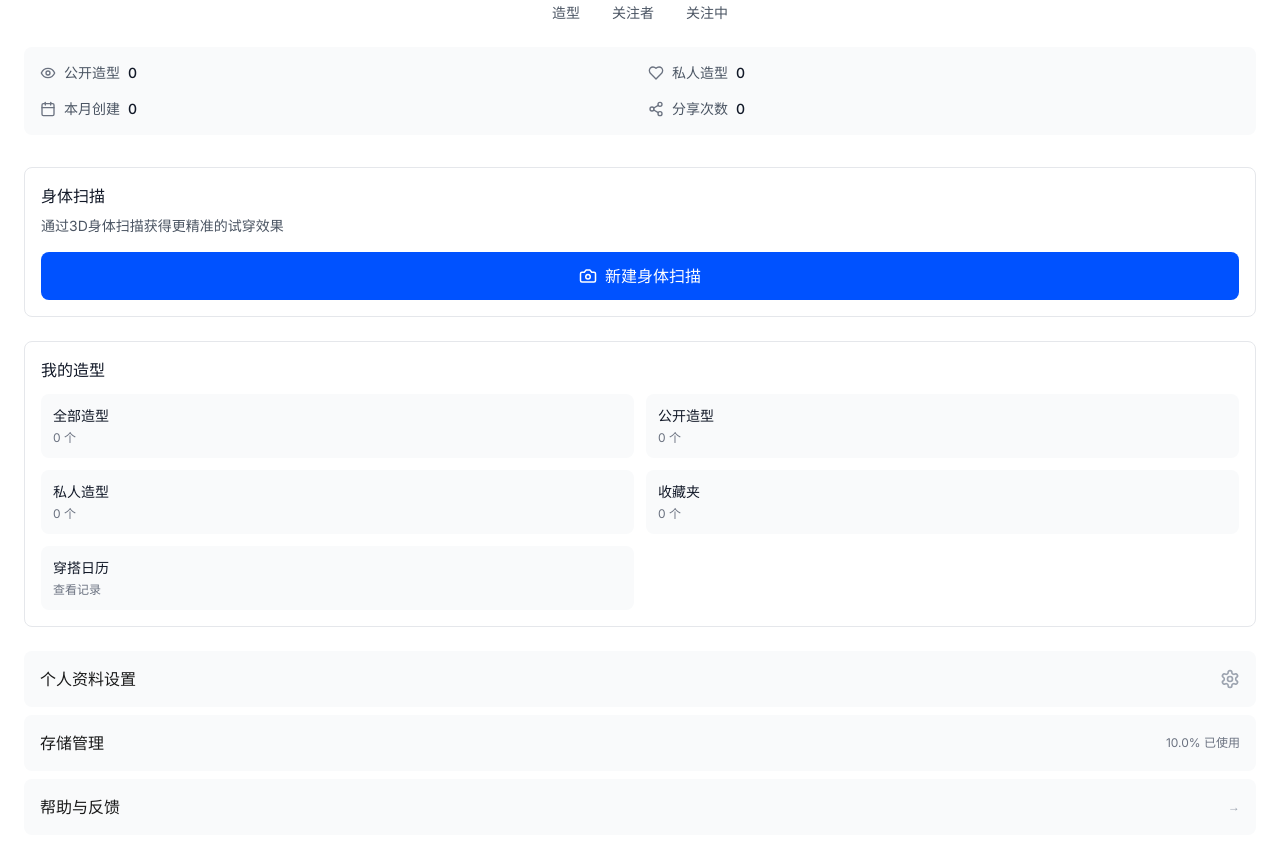
it: 用户管理属性测试 › 个人资料设置 › 应该显示所有设置选项
(page scrolled)
Click the button "个人资料设置": {"x": 88, "y": 679} [24,651,1256,707]
(page scrolled)
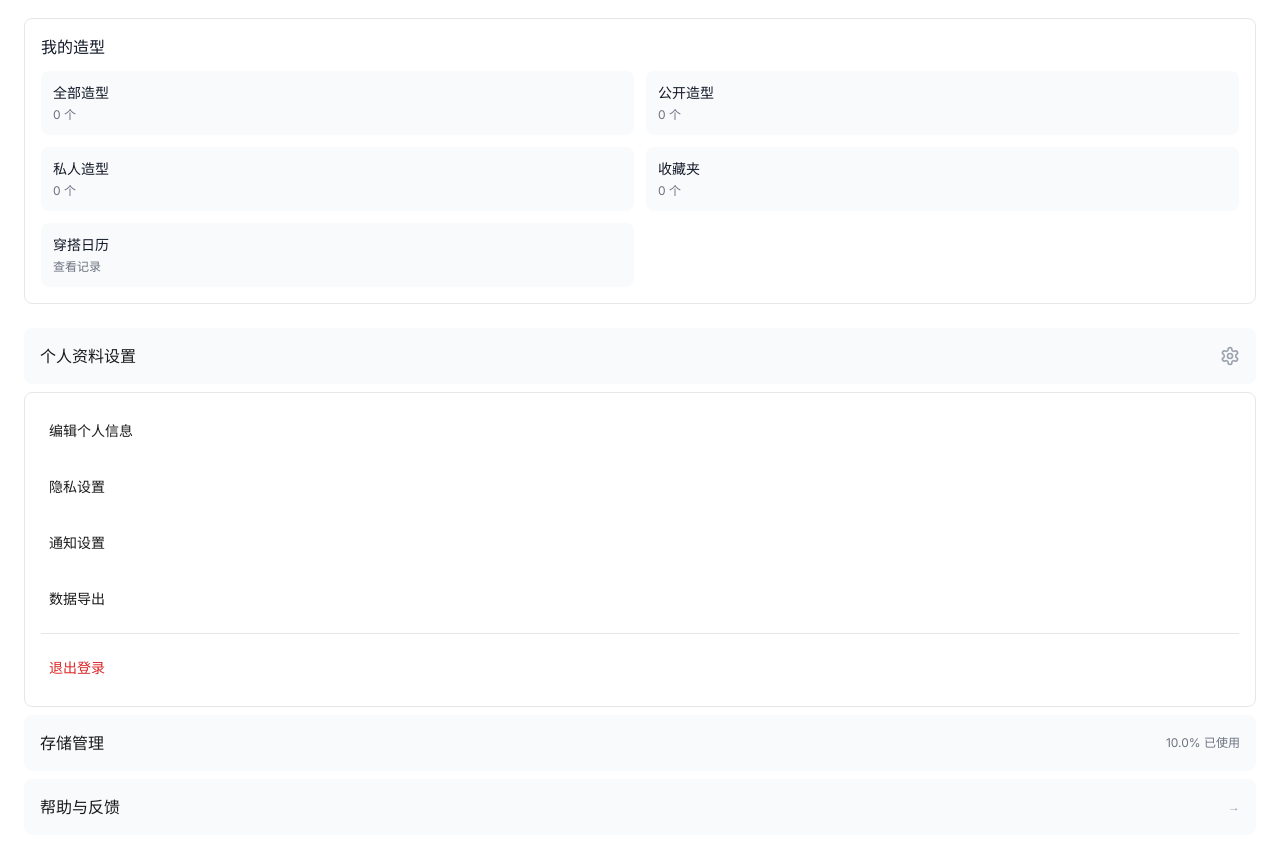
Check: the button "编辑个人信息" is shown, box [41,409,1239,453]
Check: the button "隐私设置" is shown, box [41,465,1239,509]
Check: the button "通知设置" is shown, box [41,521,1239,565]
